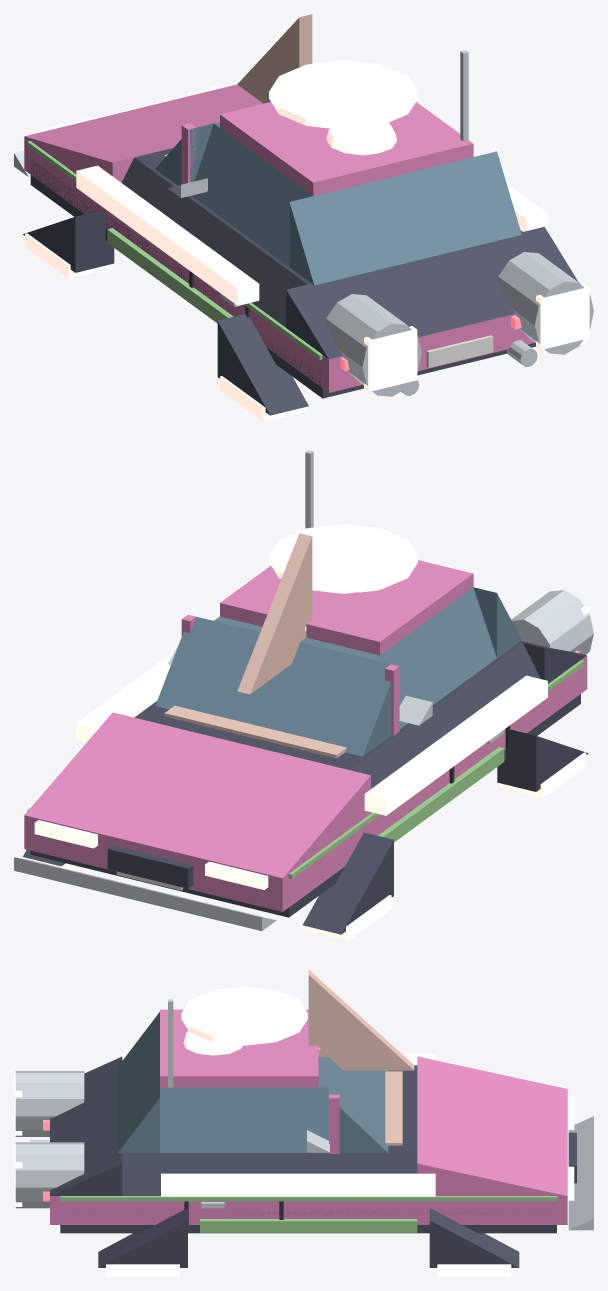
File: circuit_cycler.glb
3 renders of one model, top to bottom at view 1: azimuth 30°, elevation 25°; view 2: azimuth 150°, elevation 25°; view 3: azimuth 270°, elevation 25°, orthographic. The views are drawn at different scales.
Visible parts, largest first — view 1: RearWindow.209, Tail.109, Roof.309, Nose.106, Body.309, HaloRing.014, CabinSideL.106, FloatFin-1.051, ShoulderL.106, HoverPodWheel_RL.051, Thruster1.051, Thruster-1.051 (+17 smaller); view 2: Nose.106, Windshield.209, Body.309, Roof.309, CabinSideL.106, HaloRing.014, FloatFin-1.051, ShoulderL.106, BridgeFin.015, HoverPodWheel_FL.051, Bumper.305, Thruster-1.051 (+18 smaller); view 3: Nose.106, CabinSideR.106, Body.309, Roof.309, ShoulderR.106, FloatFin1.051, Tail.109, HaloRing.014, BridgeFin.015, RearWindow.209, Windshield.209, Thruster1.051 (+14 smaller).
Part boxes in pixels (x1,y1,x2,y2): RearWindow.209: (289,151,521,285); Tail.109: (286,227,578,358); Roof.309: (220,102,473,196); Nose.106: (25,84,262,182); Body.309: (24,136,534,392); HaloRing.014: (269,60,417,129); CabinSideL.106: (192,123,312,266); FloatFin-1.051: (76,165,259,305); ShoulderL.106: (121,157,307,327); HoverPodWheel_RL.051: (217,314,308,415); Thruster1.051: (497,252,593,354); Thruster-1.051: (325,294,421,396); Nose.106: (24,712,370,878); Windshield.209: (155,616,391,756); Body.309: (24,655,587,911); Roof.309: (220,560,473,655); CabinSideL.106: (374,587,496,729); HaloRing.014: (269,524,417,593); FloatFin-1.051: (364,675,547,815); ShoulderL.106: (350,643,540,813); BridgeFin.015: (237,533,312,694); HoverPodWheel_FL.051: (303,832,393,934); Bumper.305: (14,857,276,930); Thruster-1.051: (511,590,593,654); Nose.106: (417,1056,567,1195); CabinSideR.106: (160,1087,328,1152); Body.309: (50,1196,567,1224); Roof.309: (160,1009,318,1087); ShoulderR.106: (122,1154,417,1195); FloatFin1.051: (161,1173,435,1196); Tail.109: (50,1056,122,1195); HaloRing.014: (181,986,307,1045); BridgeFin.015: (308,970,414,1070); RearWindow.209: (117,1012,159,1152); Windshield.209: (329,1057,388,1152); Thruster1.051: (15,1142,84,1208).
Bounding box in the file's own units: 3 × 2.52 × 5.49.
